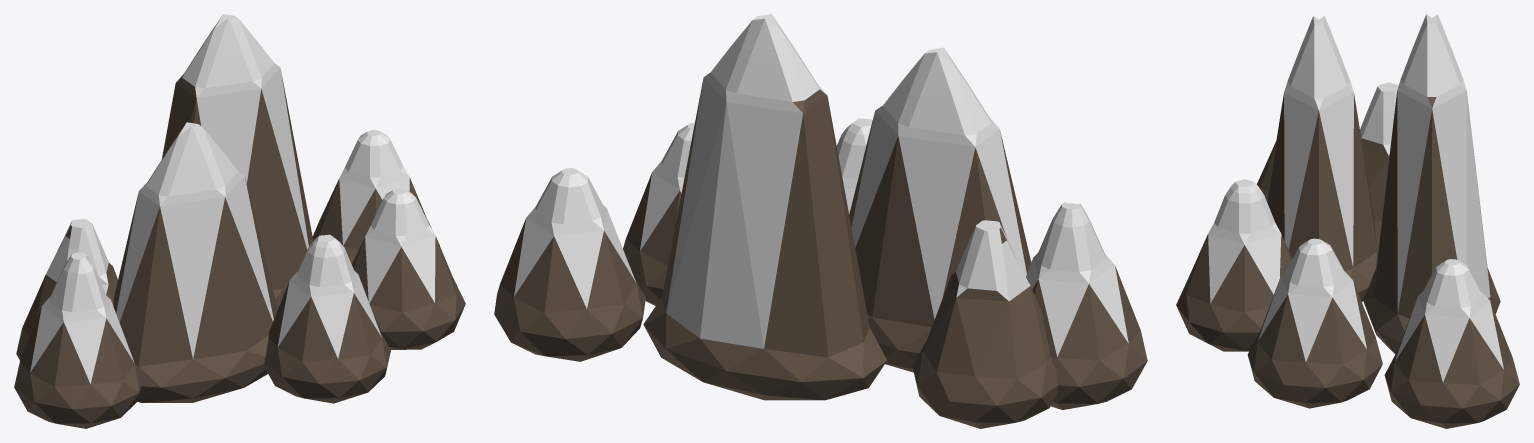
Rendered from montanhas.fbx.
3 views of the same model, side by side, from view 1: azimuth 30°, elevation 25°; view 2: azimuth 150°, elevation 25°; view 3: azimuth 270°, elevation 25° (orthographic). The views are drawn at different scales.
Parts seen in each view (by area): view 1: Icosphere.008; view 2: Icosphere.008; view 3: Icosphere.008.
Part boxes in pixels (x1,y1,x2,y2): Icosphere.008: [14, 14, 465, 428]; Icosphere.008: [494, 14, 1147, 428]; Icosphere.008: [1176, 14, 1519, 428].
Bounding box in the file's own units: 4041 × 2585 × 2470.
